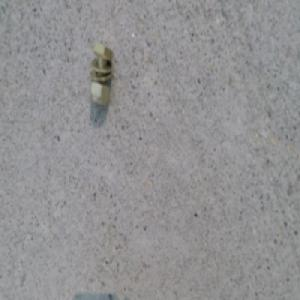BoltNutSet: (81, 33, 107, 100)
